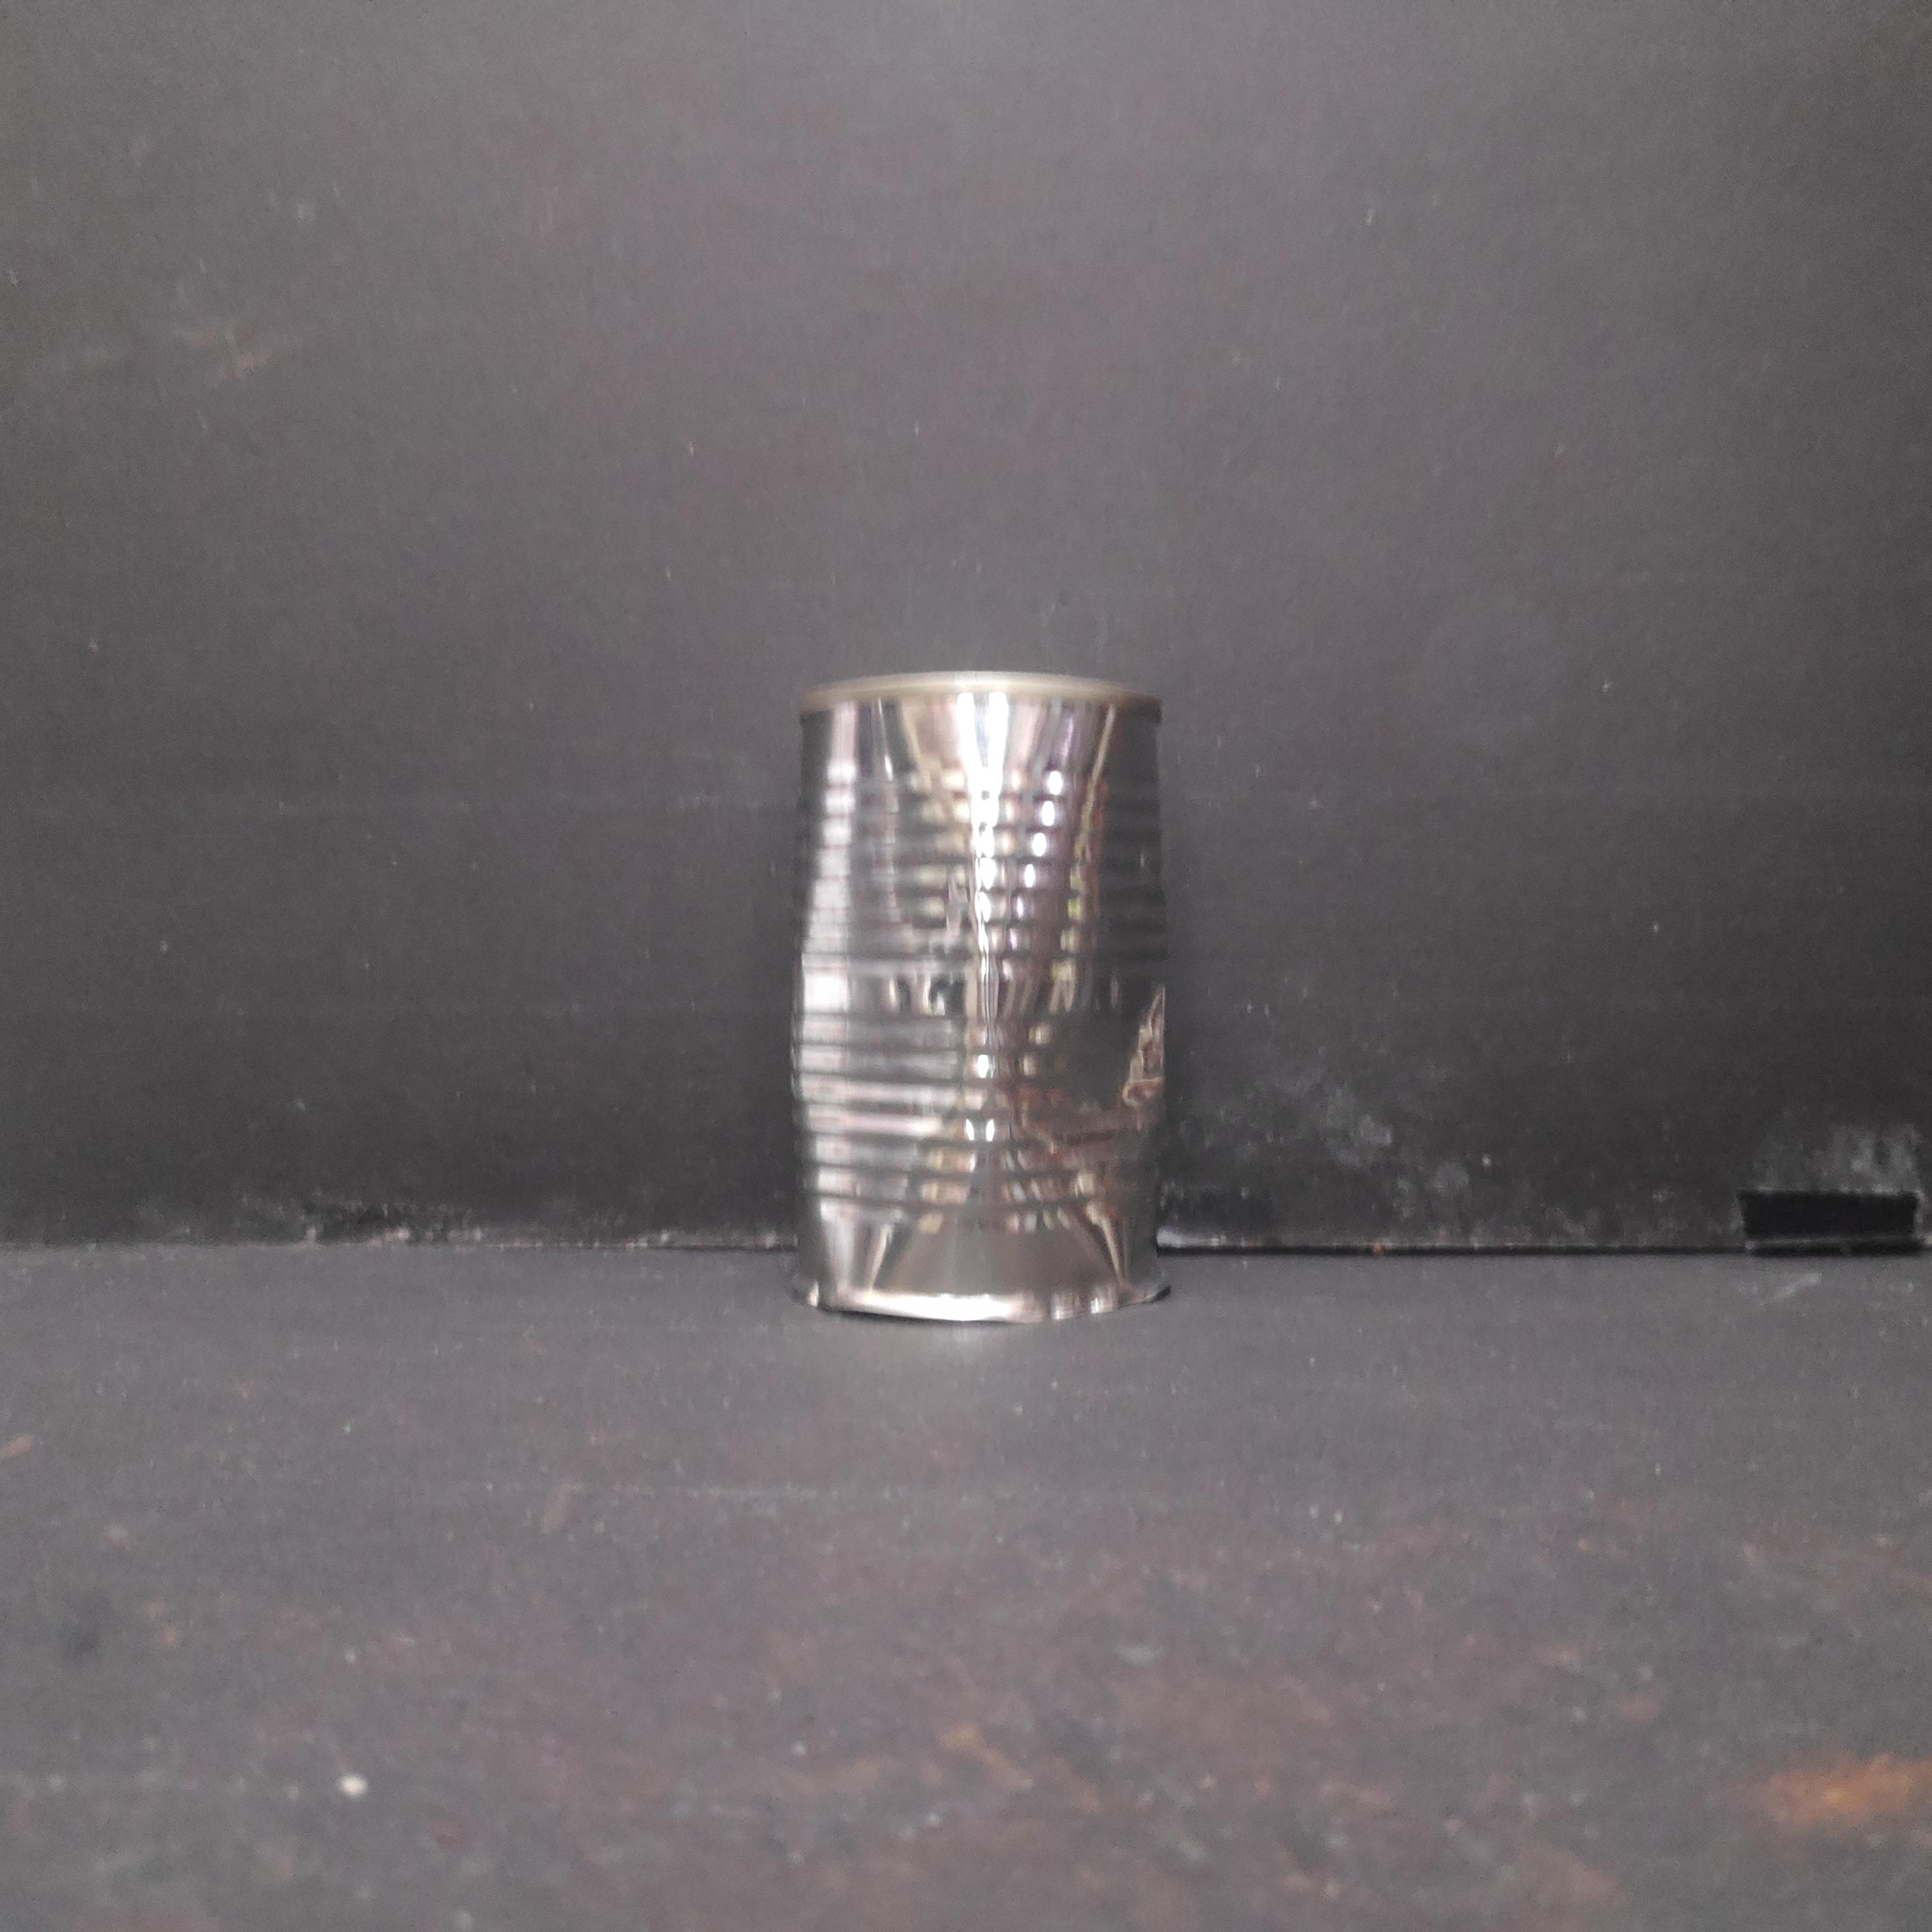Minor Defect: (768, 665, 1205, 1338)
